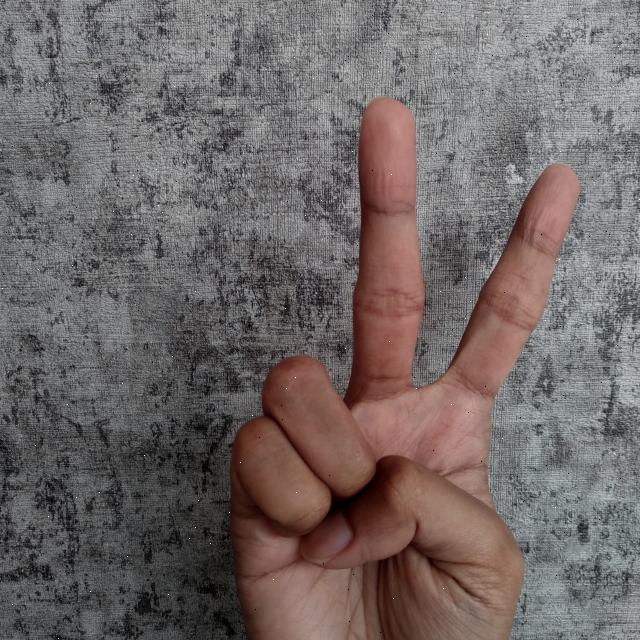V: (228, 89, 589, 640)
